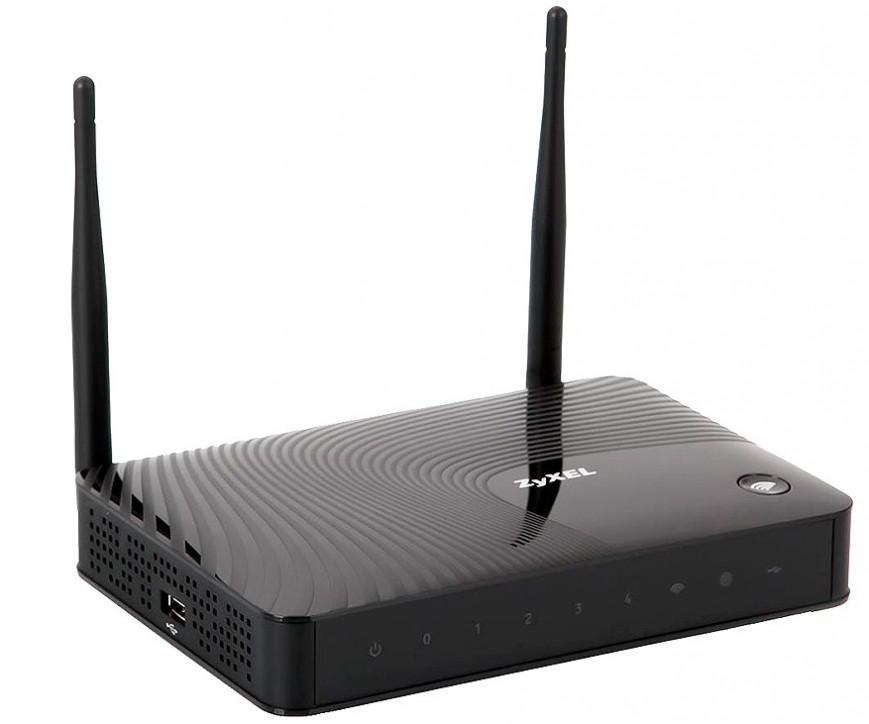router: (69, 4, 854, 717)
